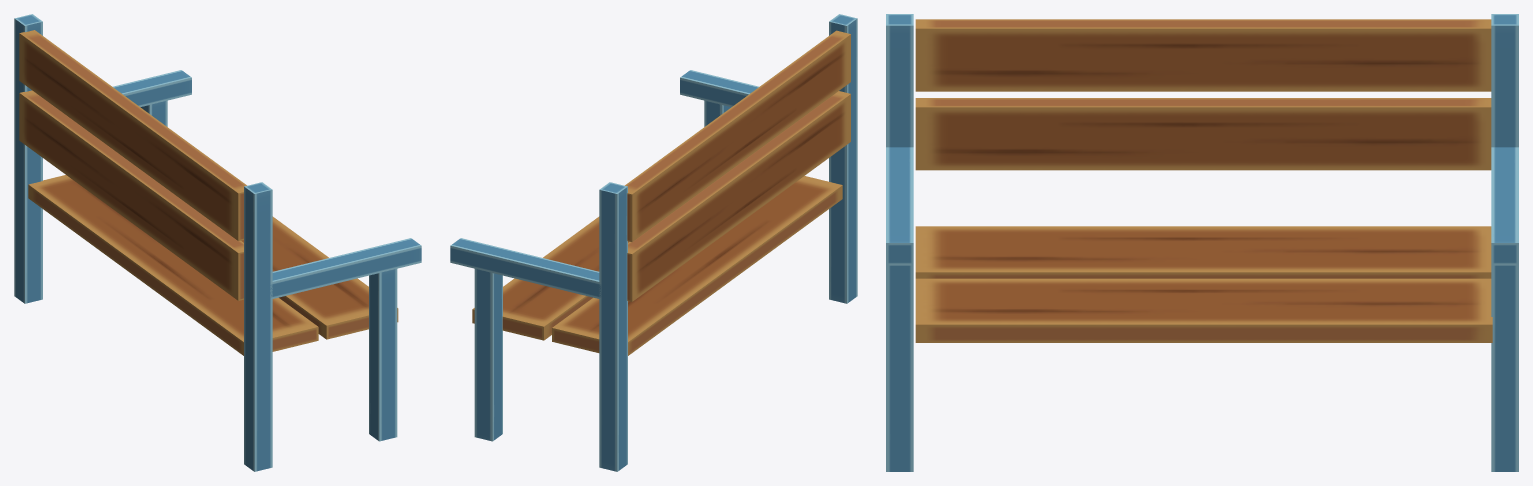
Rendered from banch_1.fbx.
3 renders of one model, left to right at view 1: azimuth 30°, elevation 25°; view 2: azimuth 150°, elevation 25°; view 3: azimuth 270°, elevation 25°, orthographic. The views are drawn at different scales.
Visible parts, largest first — view 1: polySurface71; view 2: polySurface71; view 3: polySurface71.
Boxes of the visible parts, <box> form: polySurface71: <box>14,14,421,471</box>; polySurface71: <box>450,14,857,471</box>; polySurface71: <box>886,14,1518,471</box>.
Size of the model in its own units: 6.14 by 9.48 by 14.85.
